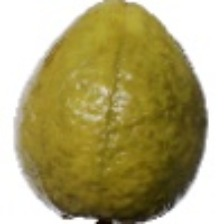guava: (29, 31, 200, 219)
